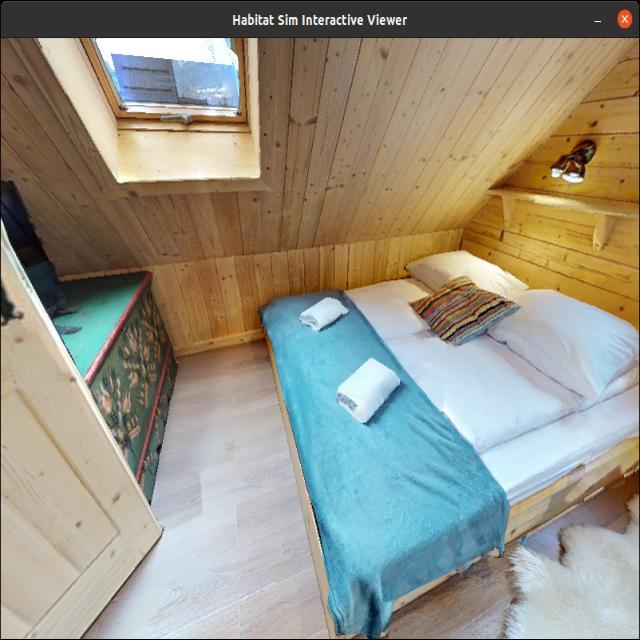bed: (244, 231, 640, 640)
